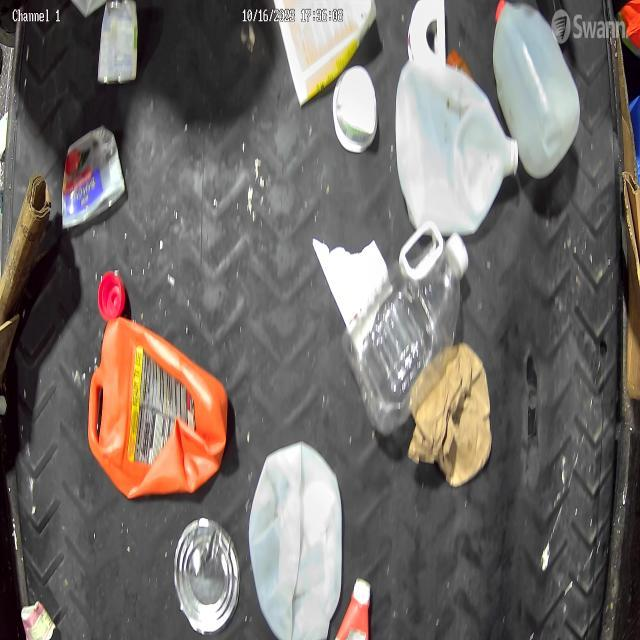milk_jug: (392, 61, 521, 228), (247, 442, 341, 640), (492, 4, 582, 168)
non_white_jug: (97, 315, 222, 493)
plastic_bottle: (349, 240, 471, 420)
